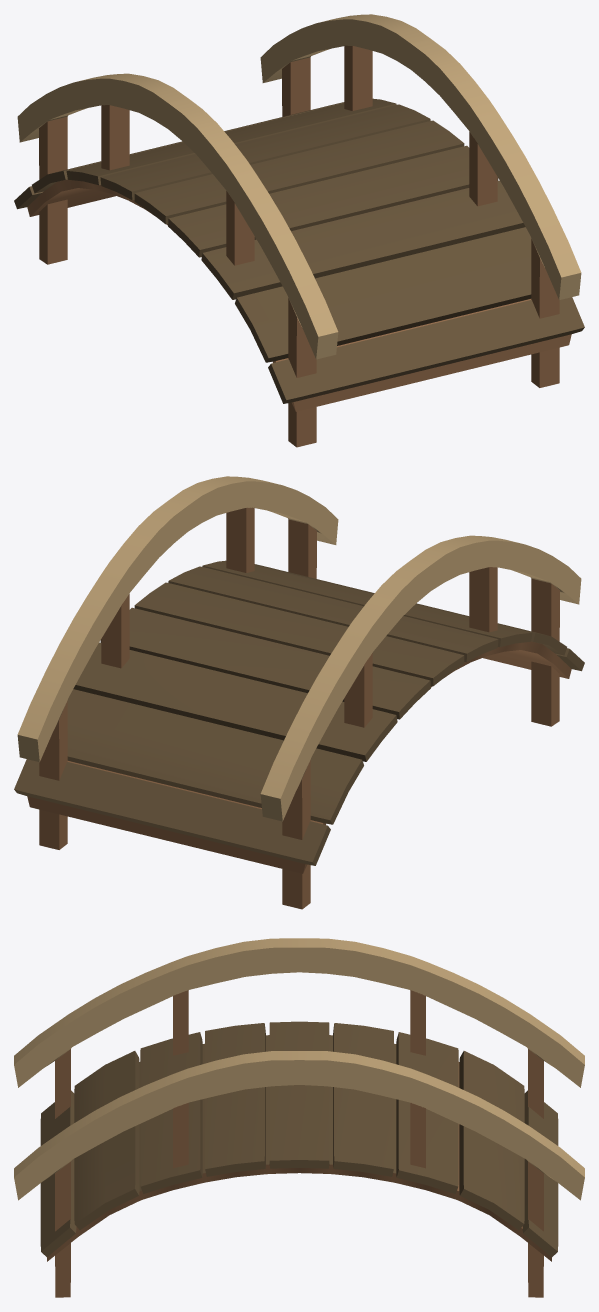
The model's file is bridge.fbx.
3 views of the same model, one above another, from view 1: azimuth 30°, elevation 25°; view 2: azimuth 150°, elevation 25°; view 3: azimuth 270°, elevation 25° (orthographic). The views are drawn at different scales.
Visible parts, largest first — view 1: Cube.001, Cube; view 2: Cube.001, Cube; view 3: Cube.001, Cube.
Part boxes in pixels (box(x1,y1,x2,y2)): Cube.001: box(14, 98, 584, 411); Cube: box(17, 14, 581, 447); Cube.001: box(14, 560, 584, 873); Cube: box(17, 476, 581, 909); Cube.001: box(40, 1021, 558, 1261); Cube: box(14, 938, 584, 1297).
Size of the model in its own units: 6.92 by 5.54 by 12.07.
